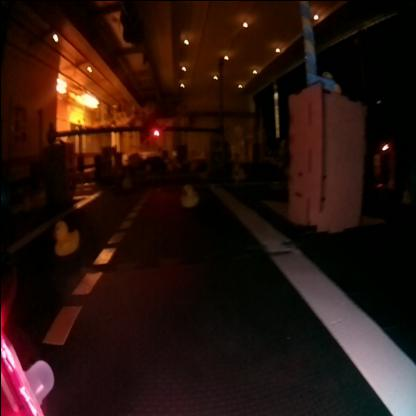Duckie: (52, 222, 78, 253), (178, 182, 197, 204)
Traffic light: (152, 128, 158, 135)
